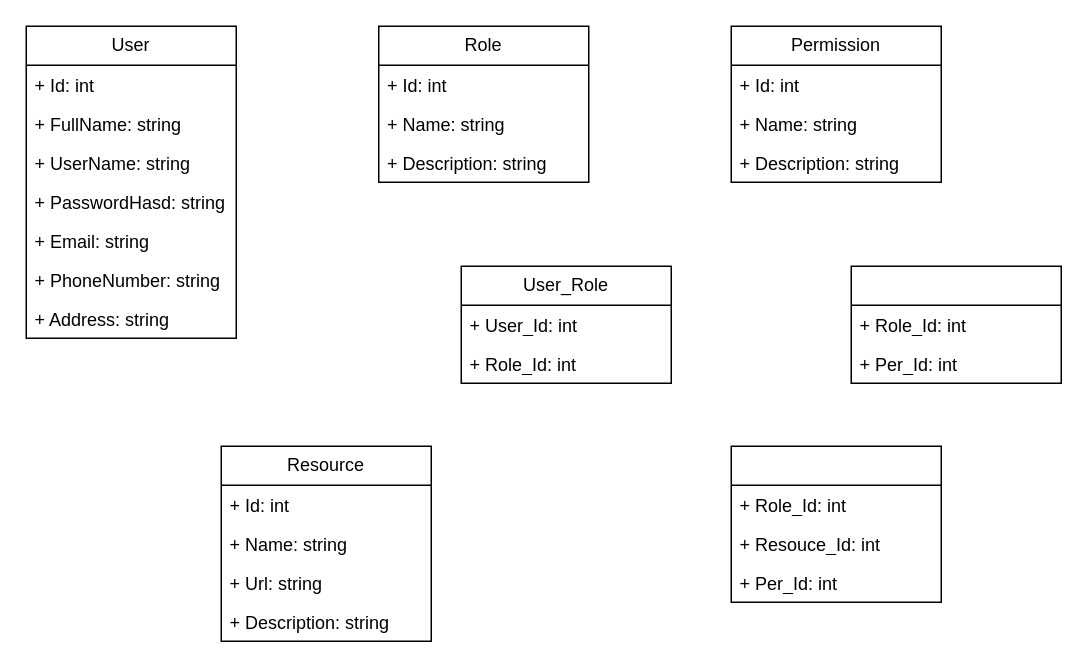
This 1088x672 diagram has some shape labels left out. The shapes that lost their labels are listed below. From the top down, each one's box as (x1, y1, x2, y2) in pixels, then its label:
(850, 265, 1061, 383): Role_Permission
(730, 445, 941, 602): Role_Resource_Per
